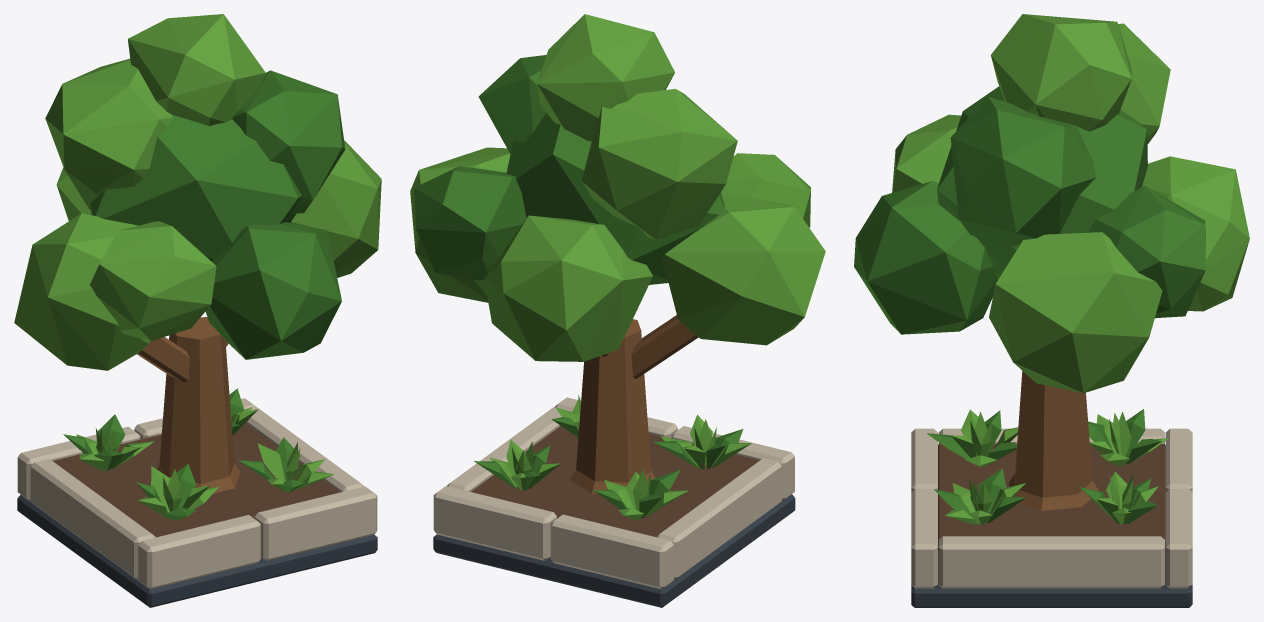
Rendered from Court_Tree.fbx.
The picture shows the model from 3 angles, left to right: view 1: azimuth 30°, elevation 25°; view 2: azimuth 150°, elevation 25°; view 3: azimuth 270°, elevation 25°; orthographic projection. The views are drawn at different scales.
Visible parts, largest first — view 1: Leaf, LeafDark, Concrete, WoodDark, Soil, FrameDark; view 2: Leaf, LeafDark, Concrete, WoodDark, Soil, FrameDark; view 3: Leaf, LeafDark, Concrete, Soil, WoodDark, FrameDark.
Boxes of the visible parts, <box> form: Leaf: <box>14,14,381,518</box>; LeafDark: <box>63,70,345,520</box>; Concrete: <box>17,398,377,589</box>; WoodDark: <box>137,317,240,493</box>; Soil: <box>53,423,340,537</box>; FrameDark: <box>17,495,377,607</box>; Leaf: <box>410,14,825,519</box>; LeafDark: <box>414,55,743,518</box>; Concrete: <box>433,397,794,589</box>; WoodDark: <box>569,315,698,493</box>; Soil: <box>471,426,759,536</box>; FrameDark: <box>433,494,795,607</box>; Leaf: <box>892,14,1249,525</box>; LeafDark: <box>854,86,1205,523</box>; Concrete: <box>911,428,1192,588</box>; Soil: <box>938,444,1165,550</box>; WoodDark: <box>1009,371,1098,510</box>; FrameDark: <box>911,551,1192,607</box>.
Size of the model in its own units: 6.6 by 8.47 by 5.63.
